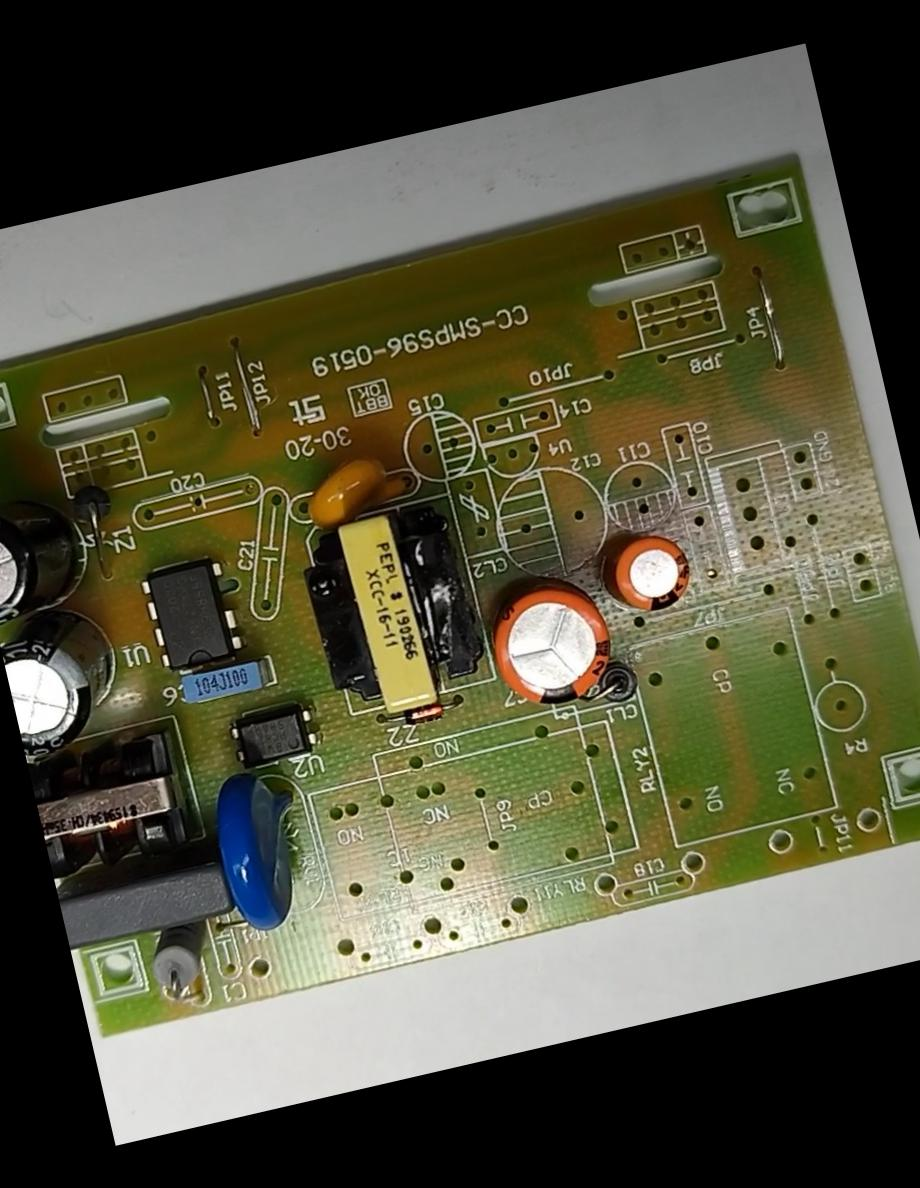Cap1: (476, 564, 628, 725)
Cap2: (603, 521, 703, 629)
Cap3: (0, 610, 134, 762)
Cap4: (0, 476, 101, 632)
MOSFET: (135, 546, 257, 688)
Mov: (198, 753, 326, 949)
Resistor: (126, 913, 229, 1009)
Transformer: (295, 496, 491, 728), (26, 728, 202, 886)
